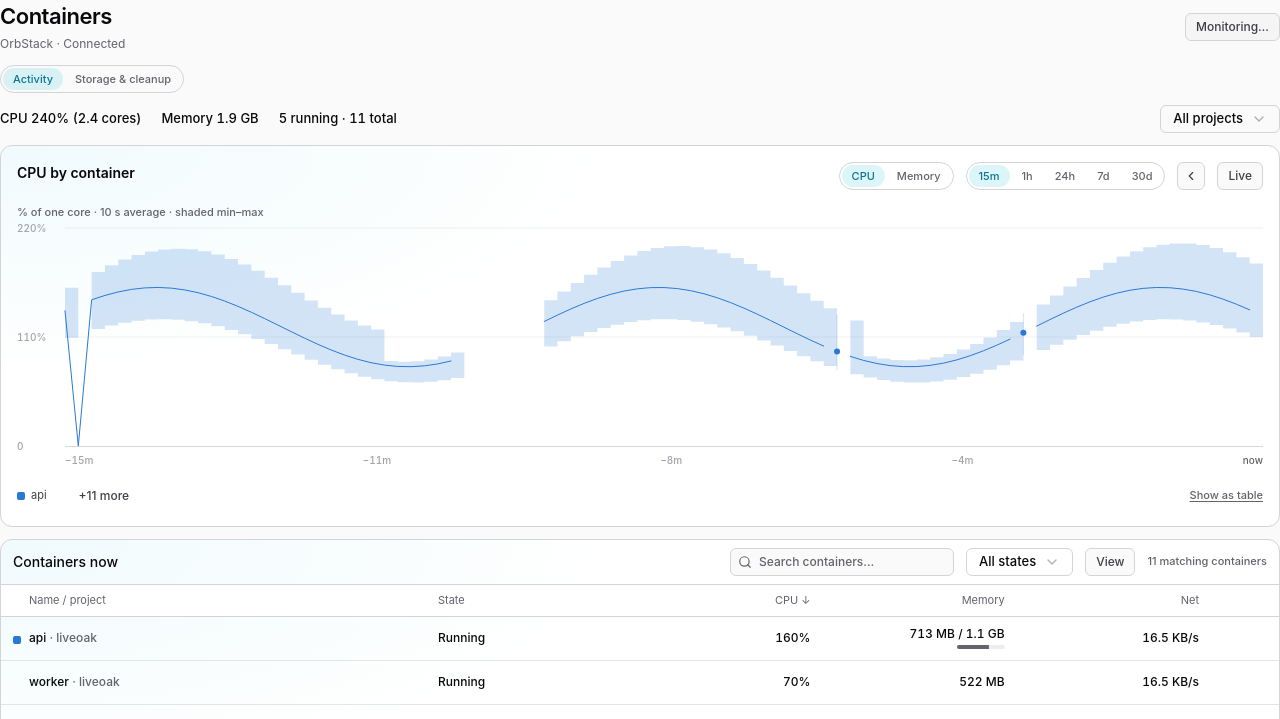
keeps a custom line and chooser entry outside the bounded ranking across metric changes
The image size is (1280, 719).
Click the radio button labelled "Memory": (919, 176) [887,165,951,187]
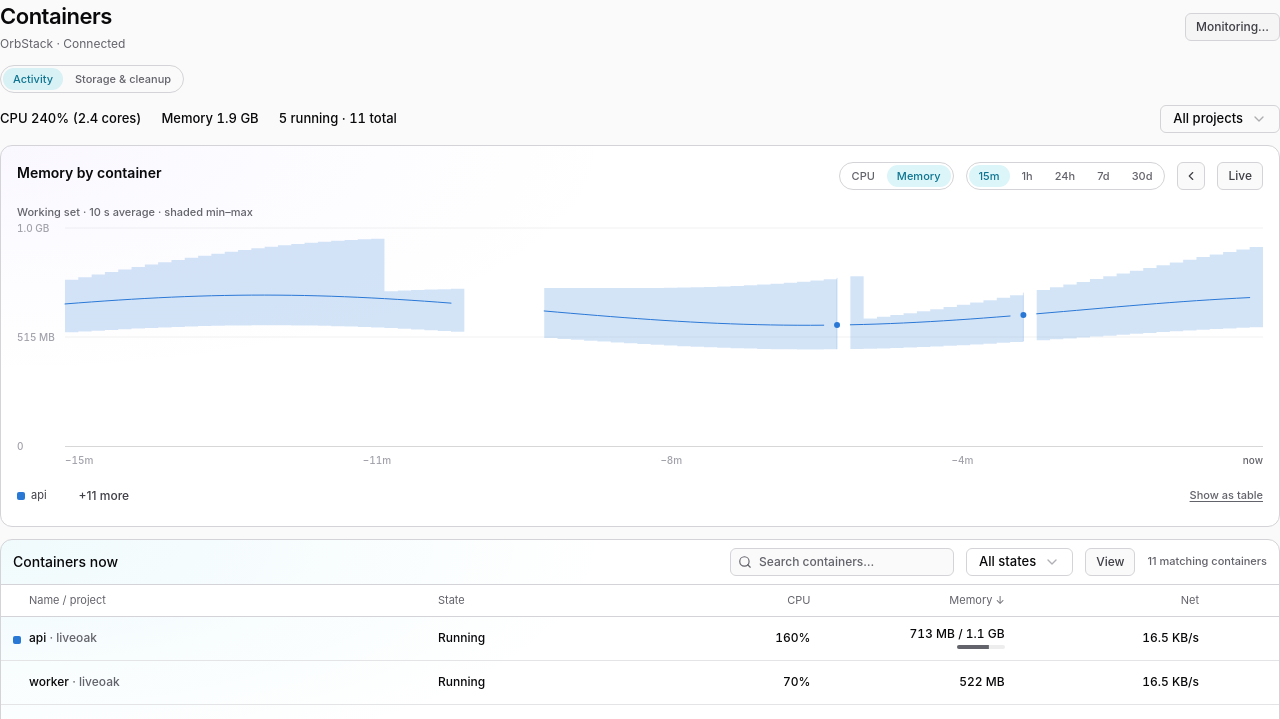
Click the button "+11 more": (104, 496) [69,482,139,510]
(page scrolled)
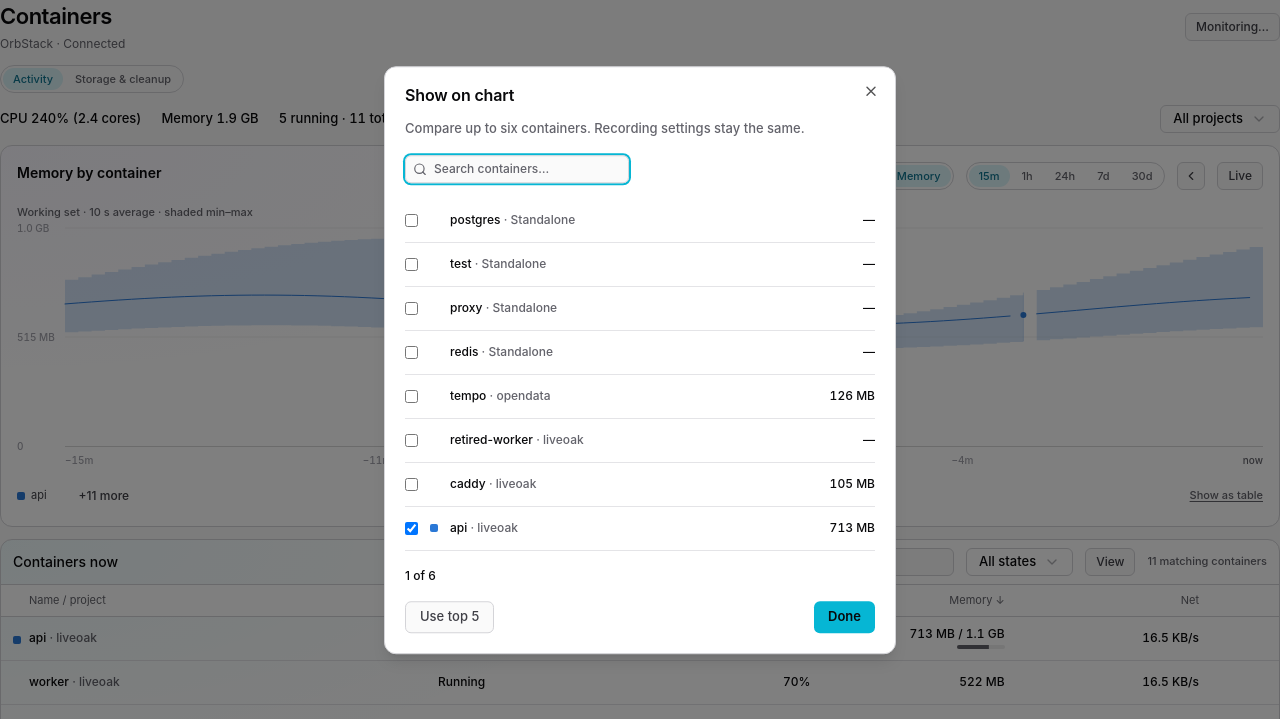
Check: the checkbox named "Chart api" is checked, box [405,522,418,535]
